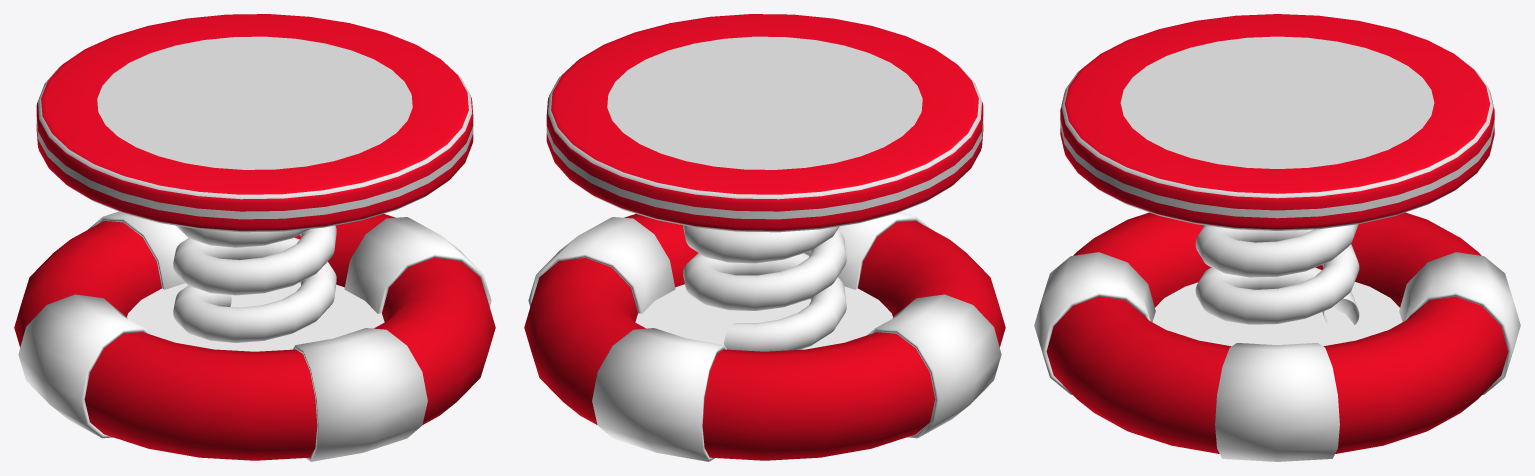
The model's file is screw1.fbx.
3 renders of one model, left to right at view 1: azimuth 30°, elevation 25°; view 2: azimuth 150°, elevation 25°; view 3: azimuth 270°, elevation 25°, orthographic.
Visible parts, largest first — view 1: Torus.002, Cylinder, Circle.001; view 2: Torus.002, Cylinder, Circle.001; view 3: Torus.002, Cylinder, Circle.001.
Boxes of the visible parts, x1,y1,x2,y2 form: Torus.002: (14,211,495,461); Cylinder: (36,14,473,232); Circle.001: (173,225,336,342); Torus.002: (524,211,1005,461); Cylinder: (546,14,983,232); Circle.001: (683,225,846,351); Torus.002: (1034,212,1520,461); Cylinder: (1060,14,1494,230); Circle.001: (1195,224,1359,324).
Bounding box in the file's own units: 224 × 140 × 224.
